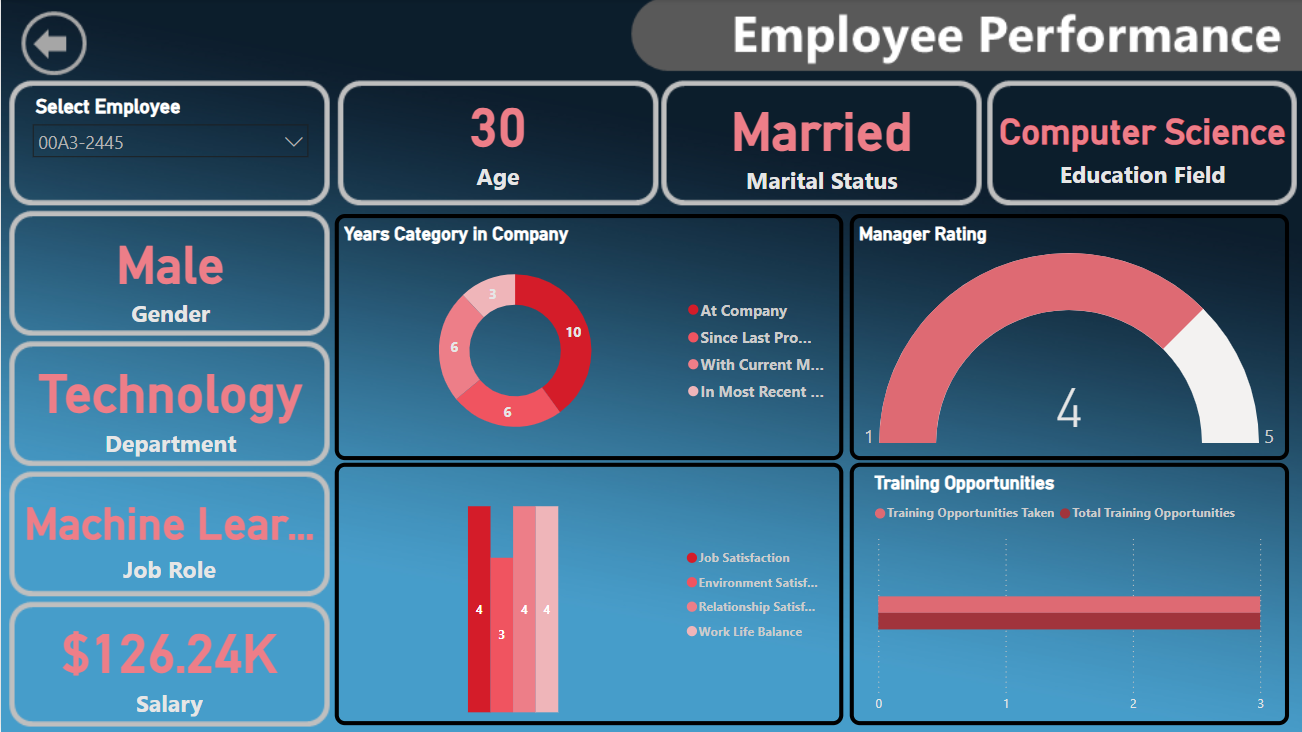

This screenshot's page, from the dashboard's own definition file:
{"tool":"powerbi","page":{"name":"Page 2","canvas":[1280,720],"ordinal":1},"visuals":[{"type":"slicer","fields":{"Values":["Employee.EmployeeID"]},"box":[20.6,89.2,290.9,105.7],"z":0},{"type":"card","fields":{"Values":["Employee.Dep_name"]},"box":[19.2,343.1,293.7,105.7],"z":1000},{"type":"card","fields":{"Values":["Employee.Job_role_measure"]},"box":[17.8,472,293.7,105.7],"z":2000},{"type":"card","fields":{"Values":["Employee.Salary_measure"]},"box":[17.8,598.3,293.7,105.7],"z":3000},{"type":"card","fields":{"Values":["Employee.Age_measure"]},"box":[341.7,70,293.7,129],"z":4000},{"type":"card","fields":{"Values":["Employee.Marital_status_measure"]},"box":[658.7,86.4,293.7,105.7],"z":5000},{"type":"card","fields":{"Values":["Employee.Edu_Field"]},"box":[978.4,89.2,285.4,105.7],"z":6000},{"type":"donutChart","title":"Years Category in Company","fields":{"Y":["Sum(Employee.YearsAtCompany)","Sum(Employee.YearsSinceLastPromotion)","Sum(Employee.YearsWithCurrManager)","Sum(Employee.YearsInMostRecentRole)"]},"box":[328,211.3,499.5,241.5],"z":7000},{"type":"clusteredColumnChart","fields":{"Category":["PerformanceRating.EmployeeID"],"Y":["Count(PerformanceRating.JobSatisfaction)","Count(PerformanceRating.EnvironmentSatisfaction)","Count(PerformanceRating.RelationshipSatisfaction)","Count(PerformanceRating.WorkLifeBalance)"]},"box":[328,455.6,499.5,258],"z":8000},{"type":"gauge","title":"Manager Rating","fields":{"Y":["Count(PerformanceRating.ManagerRating)"],"MinValue":["Min(RatingLevel.RatingID)"],"MaxValue":["Max(RatingLevel.RatingID)1"]},"box":[832.9,211.3,430.9,241.5],"z":9000},{"type":"clusteredBarChart","title":"Training Opportunities ","fields":{"Category":["PerformanceRating.EmployeeID"],"Y":["Count(PerformanceRating.TrainingOpportunitiesTaken)","Count(PerformanceRating.TrainingOpportunitiesWithinYear)"]},"box":[832.9,455.6,430.9,258],"z":10000},{"type":"card","fields":{"Values":["Employee.Gender_measure"]},"box":[19.2,216.8,293.7,105.7],"z":11000},{"type":"actionButton","box":[18.4,9.8,67.5,60.1],"z":12000}]}

Visuals, with their boxes in screenshot pixels (x1, y1, x2, y2), scaled from the page's 1280x720 canvas onto the 1302x732 screenshot:
slicer - Employee.EmployeeID: 21/91/317/198
card - Employee.Dep_name: 20/349/318/456
card - Employee.Job_role_measure: 18/480/317/587
card - Employee.Salary_measure: 18/608/317/716
card - Employee.Age_measure: 348/71/646/202
card - Employee.Marital_status_measure: 670/88/969/195
card - Employee.Edu_Field: 995/91/1286/198
"Years Category in Company" donutChart: 334/215/842/460
clusteredColumnChart - PerformanceRating.EmployeeID x Count(PerformanceRating.JobSatisfaction): 334/463/842/725
"Manager Rating" gauge: 847/215/1286/460
"Training Opportunities " clusteredBarChart: 847/463/1286/725
card - Employee.Gender_measure: 20/220/318/328
actionButton: 19/10/87/71
